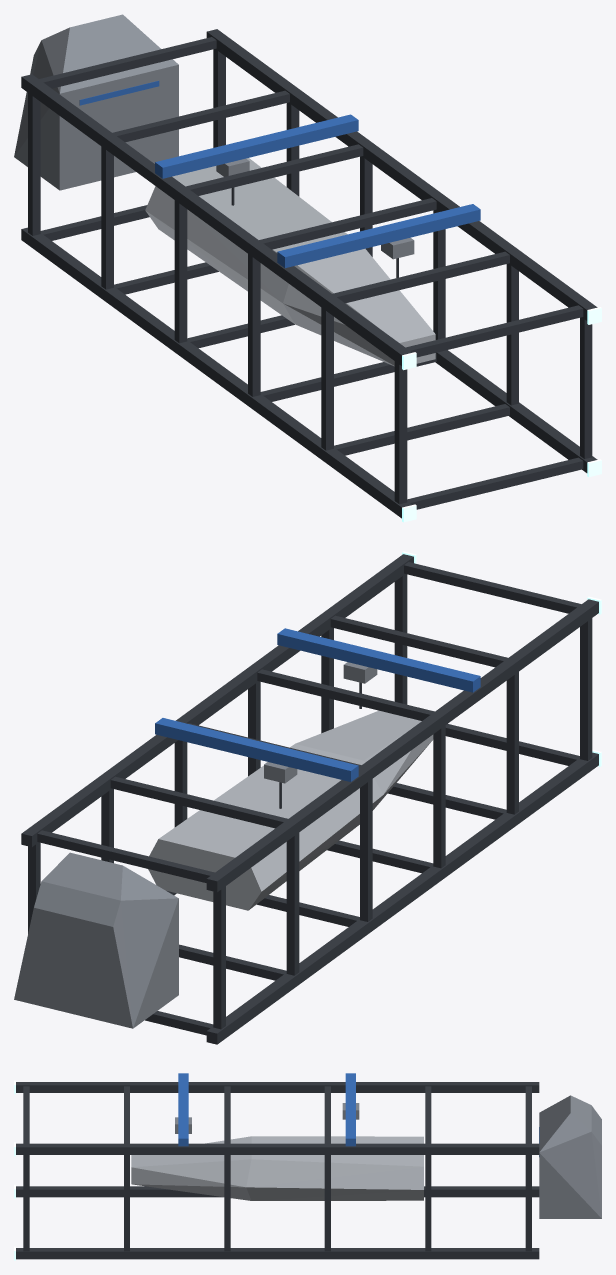
Rendered from Shipyard.glb.
3 views of the same model, one above another, from view 1: azimuth 30°, elevation 25°; view 2: azimuth 150°, elevation 25°; view 3: azimuth 270°, elevation 25° (orthographic). The views are drawn at different scales.
Parts seen in each view (by area): view 1: hull_in_progress, control_block, frame_beam_1, frame_beam_3, frame_beam_0, gantry_0, gantry_1, frame_beam_2, rib_top_3, rib_top_2, rib_top_4, rib_top_0 (+20 smaller); view 2: control_block, hull_in_progress, frame_beam_1, frame_beam_3, frame_beam_0, gantry_1, gantry_0, rib_top_0, rib_top_4, rib_top_1, rib_top_3, rib_top_5 (+18 smaller); view 3: hull_in_progress, control_block, frame_beam_0, frame_beam_2, frame_beam_1, frame_beam_3, gantry_1, gantry_0, rib_R_1, rib_R_3, rib_R_2, rib_R_5 (+8 smaller).
Part boxes in pixels (x1,y1,x2,y2): hull_in_progress: (145,158,435,366); control_block: (14,14,178,190); frame_beam_1: (21,74,411,365); frame_beam_3: (21,227,411,518); frame_beam_0: (206,29,597,320); gantry_0: (155,114,358,178); gantry_1: (277,204,480,268); frame_beam_2: (435,350,597,472); rib_top_3: (246,198,436,254); rib_top_2: (173,144,363,200); rib_top_4: (320,251,509,307); rib_top_0: (26,37,216,92); control_block: (14,852,178,1028); hull_in_progress: (148,710,433,910); frame_beam_1: (206,599,598,892); frame_beam_3: (206,752,598,1044); frame_beam_0: (21,554,413,846); gantry_1: (277,628,480,692); gantry_0: (155,718,358,781); rib_top_0: (37,830,227,886); rib_top_4: (330,615,520,671); rib_top_1: (110,776,300,832); rib_top_3: (257,669,446,725); rib_top_5: (404,562,593,617); hull_in_progress: (131,1136,423,1200); control_block: (539,1095,601,1218); frame_beam_0: (16,1143,539,1154); frame_beam_2: (16,1248,539,1259); frame_beam_1: (16,1082,539,1092); frame_beam_3: (16,1186,539,1197); gantry_1: (178,1073,188,1146); gantry_0: (345,1073,355,1146); rib_R_1: (425,1144,431,1251); rib_R_3: (224,1144,230,1251); rib_R_2: (324,1144,330,1251); rib_R_5: (23,1144,29,1251).
Bounding box in the file's own units: 150 × 130 × 562.
